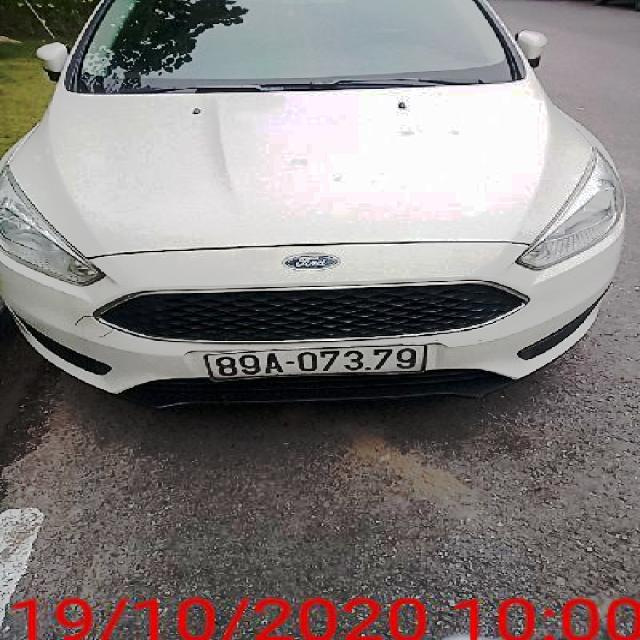license_plate: (201, 345, 427, 381)
